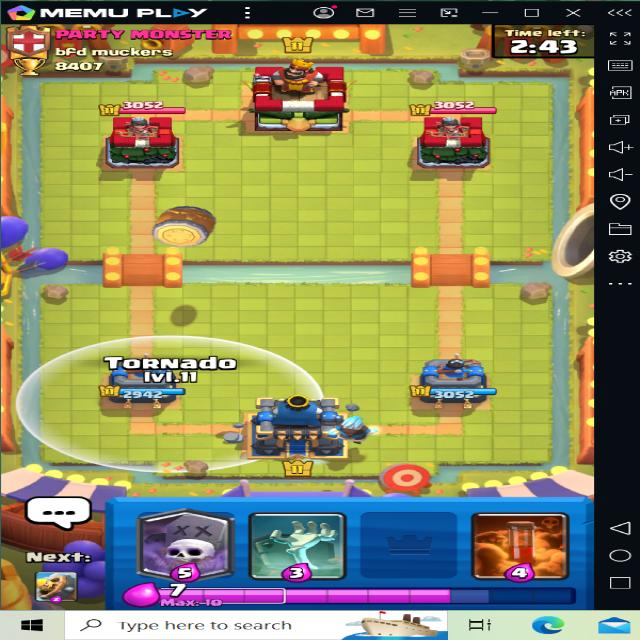goblin-barrel: (135, 200, 228, 252)
